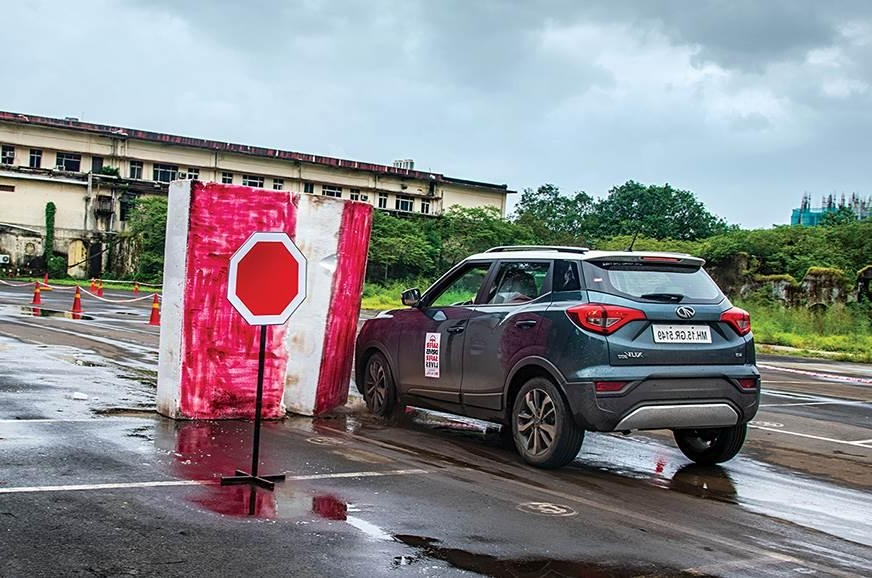car: (352, 220, 777, 476)
